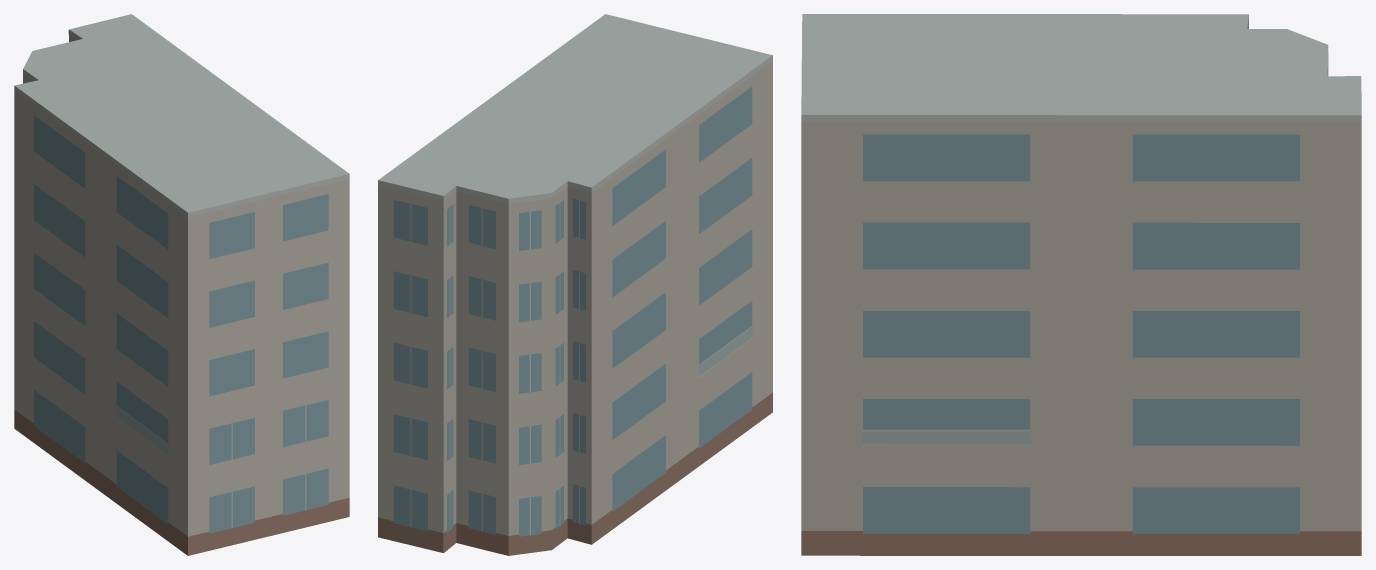
The model's file is survey-upis-32630139.glb.
The picture shows the model from 3 angles, left to right: view 1: azimuth 30°, elevation 25°; view 2: azimuth 150°, elevation 25°; view 3: azimuth 270°, elevation 25°; orthographic projection. The views are drawn at different scales.
Parts seen in each view (by area): view 1: survey-upis-32630139.tmp; view 2: survey-upis-32630139.tmp; view 3: survey-upis-32630139.tmp.
Part boxes in pixels (x1,y1,x2,y2): survey-upis-32630139.tmp: [14, 14, 349, 555]; survey-upis-32630139.tmp: [378, 14, 772, 555]; survey-upis-32630139.tmp: [801, 14, 1361, 555].
Bounding box in the file's own units: 8.2 × 16.5 × 19.03.
